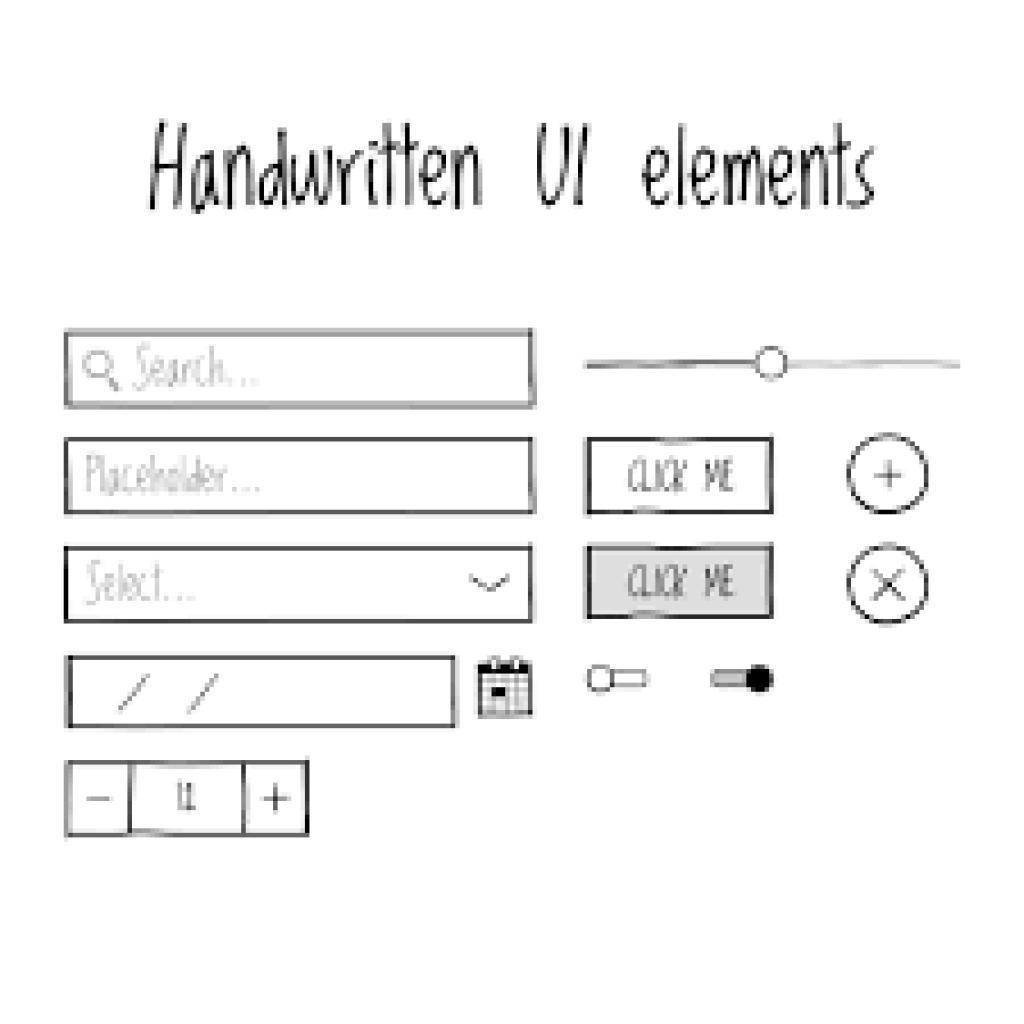button: (586, 435, 777, 517), (584, 545, 775, 620)
dropdown: (65, 549, 534, 622)
icon: (475, 653, 542, 723), (863, 562, 910, 607), (864, 454, 908, 497), (259, 782, 299, 816), (82, 786, 118, 814)
input: (65, 329, 537, 409), (64, 438, 537, 515), (68, 655, 457, 730), (130, 764, 245, 837)
slider: (581, 347, 963, 380)
switch: (710, 665, 775, 697), (587, 664, 651, 695)
